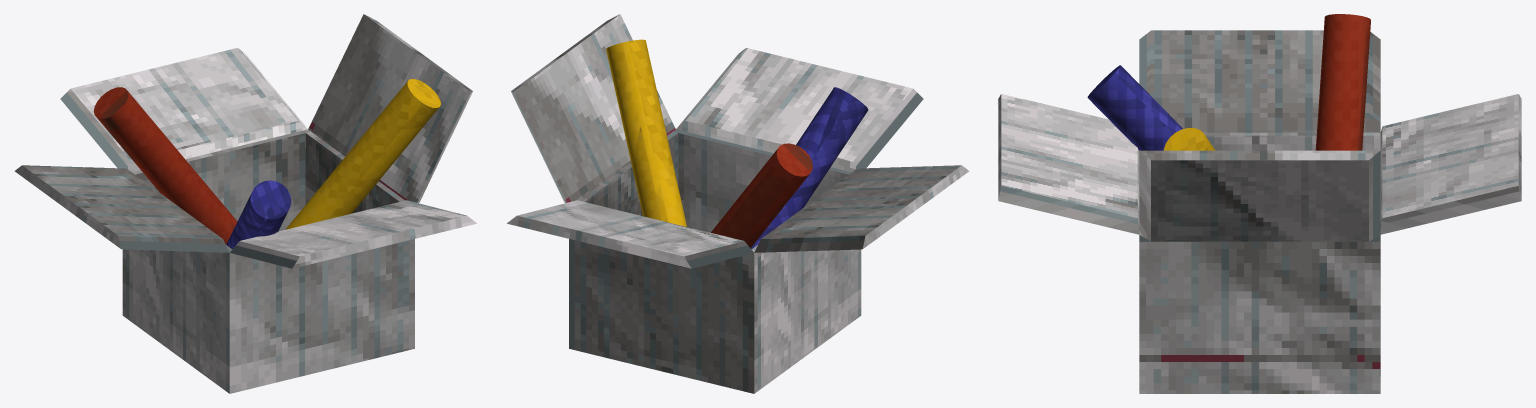
File: Tool_Box.fbx
3 renders of one model, left to right at view 1: azimuth 30°, elevation 25°; view 2: azimuth 150°, elevation 25°; view 3: azimuth 270°, elevation 25°, orthographic. The views are drawn at different scales.
Visible parts, largest first — view 1: polySurface25, pCylinder23.001, pCylinder22.001, pCylinder24.001; view 2: polySurface25, pCylinder23.001, pCylinder22.001, pCylinder24.001; view 3: polySurface25, pCylinder22.001, pCylinder24.001, pCylinder23.001.
Part boxes in pixels (box(x1,y1,x2,y2)): polySurface25: box(14, 14, 476, 393); pCylinder23.001: box(285, 79, 440, 229); pCylinder22.001: box(93, 87, 237, 244); pCylinder24.001: box(226, 180, 291, 248); polySurface25: box(507, 14, 969, 393); pCylinder23.001: box(606, 39, 686, 226); pCylinder22.001: box(711, 143, 812, 247); pCylinder24.001: box(750, 87, 868, 248); polySurface25: box(998, 30, 1521, 393); pCylinder22.001: box(1315, 14, 1370, 150); pCylinder24.001: box(1087, 65, 1182, 150); pCylinder23.001: box(1164, 128, 1215, 150).
Bounding box in the file's own units: 5.99 × 3.96 × 6.75.
Materials: 4 (4 with a texture image).
